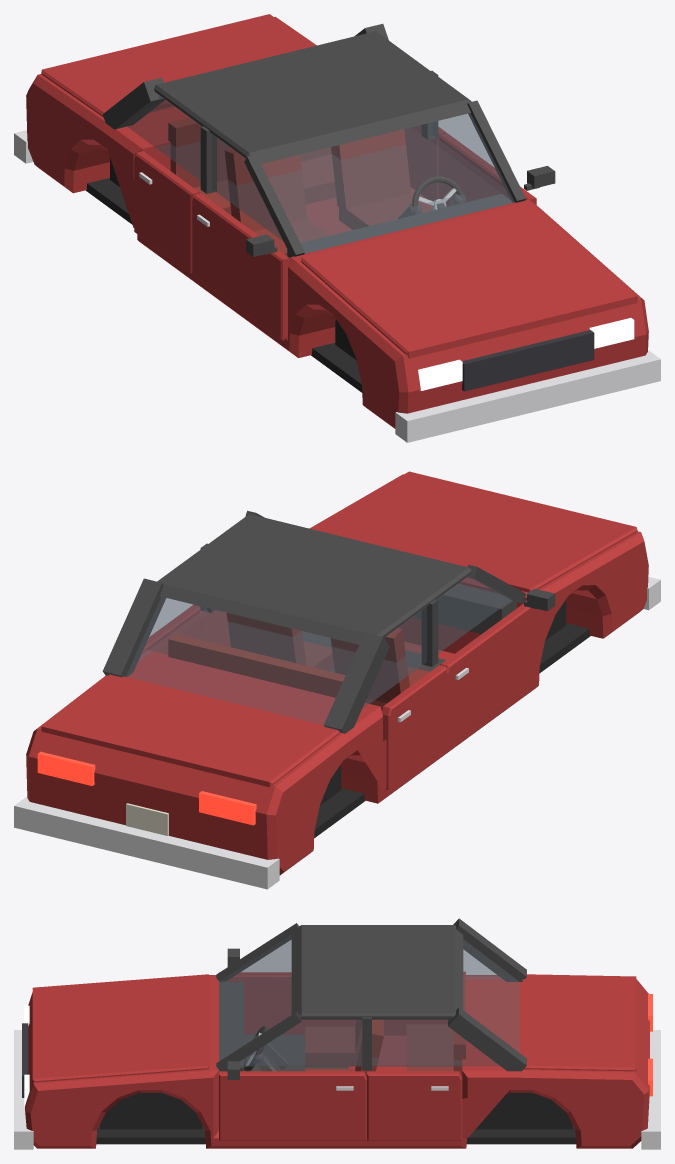
File: car_sedan.glb
The picture shows the model from 3 angles, top to bottom: view 1: azimuth 30°, elevation 25°; view 2: azimuth 150°, elevation 25°; view 3: azimuth 270°, elevation 25°; orthographic projection. The views are drawn at different scales.
Visible parts, largest first — view 1: Hood, Body, Cabin_Glass, Roof, Trunk, Bumper_F, Door_R, Pillars, Seat_L, DoorRear_R, Seat_R, Seat_Rear (+7 smaller); view 2: Body, Roof, Cabin_Glass, Hood, Trunk, Bumper_R, Pillars, Door_R, DoorRear_R, Seat_Rear, Seat_L, Seat_R (+8 smaller); view 3: Body, Cabin_Glass, Hood, Roof, Trunk, Door_L, DoorRear_L, Pillars, Underbody, Door_R, WheelWell_F, Seat_Rear (+9 smaller).
Part boxes in pixels (<box>): Hood: <box>301,201,637,358</box>; Body: <box>26,16,648,428</box>; Cabin_Glass: <box>126,95,514,253</box>; Roof: <box>154,31,471,163</box>; Trunk: <box>41,14,314,117</box>; Bumper_F: <box>395,350,660,442</box>; Door_R: <box>192,193,289,340</box>; Pillars: <box>102,23,525,256</box>; Seat_L: <box>331,129,432,229</box>; DoorRear_R: <box>134,151,200,273</box>; Seat_R: <box>224,149,329,255</box>; Seat_Rear: <box>168,117,335,215</box>; Body: <box>26,474,648,875</box>; Roof: <box>157,514,472,644</box>; Cabin_Glass: <box>126,576,512,724</box>; Hood: <box>310,471,637,592</box>; Trunk: <box>41,674,339,787</box>; Bumper_R: <box>14,797,279,889</box>; Pillars: <box>102,510,525,733</box>; Door_R: <box>440,603,536,746</box>; DoorRear_R: <box>381,665,446,789</box>; Seat_Rear: <box>168,634,345,697</box>; Seat_L: <box>226,613,333,670</box>; Seat_R: <box>330,628,429,709</box>; Body: <box>25,975,649,1148</box>; Cabin_Glass: <box>219,935,519,1066</box>; Hood: <box>32,974,208,1084</box>; Roof: <box>291,925,463,1019</box>; Trunk: <box>522,974,636,1071</box>; Door_L: <box>219,1071,366,1140</box>; DoorRear_L: <box>367,1071,462,1140</box>; Pillars: <box>216,918,526,1071</box>; Underbody: <box>96,1125,576,1144</box>; Door_R: <box>226,972,356,1033</box>; WheelWell_F: <box>100,1092,202,1129</box>; Seat_Rear: <box>406,971,465,1076</box>.
Size of the model in its own units: 2.32 by 1.21 by 5.24.
